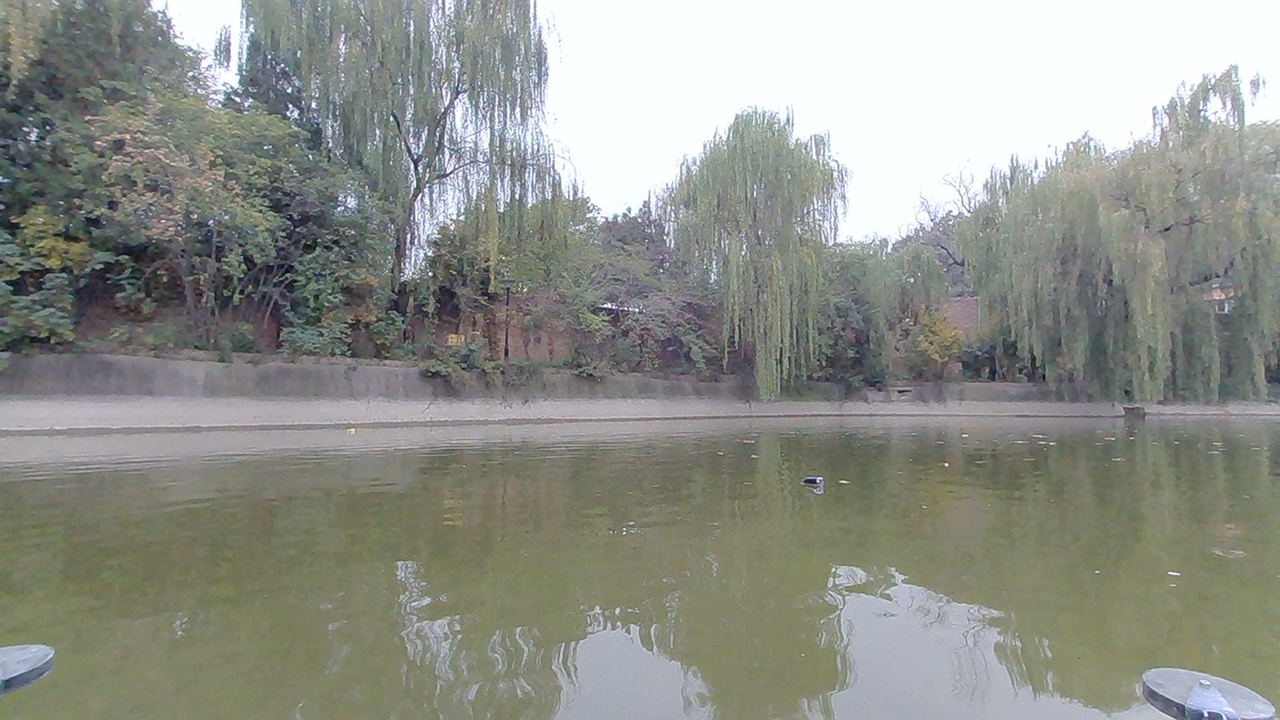bottle: (802, 471, 830, 497)
